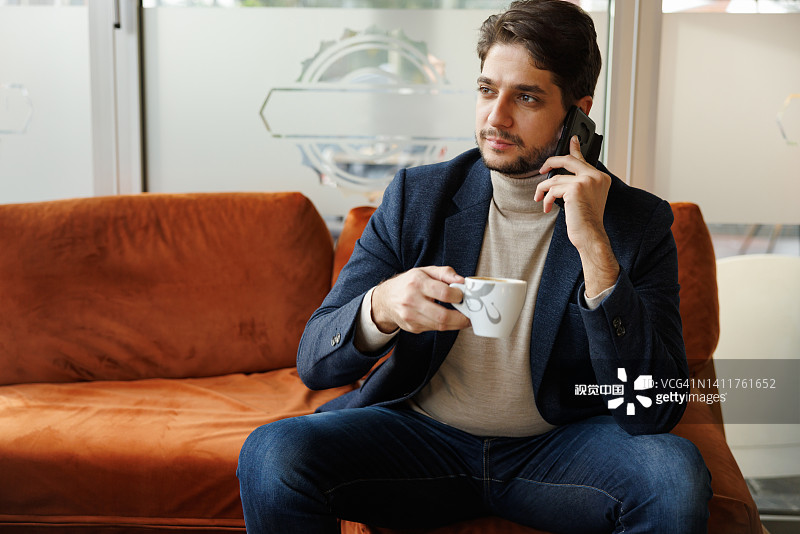calling: (530, 109, 639, 260)
no-phone: (357, 254, 536, 351)
